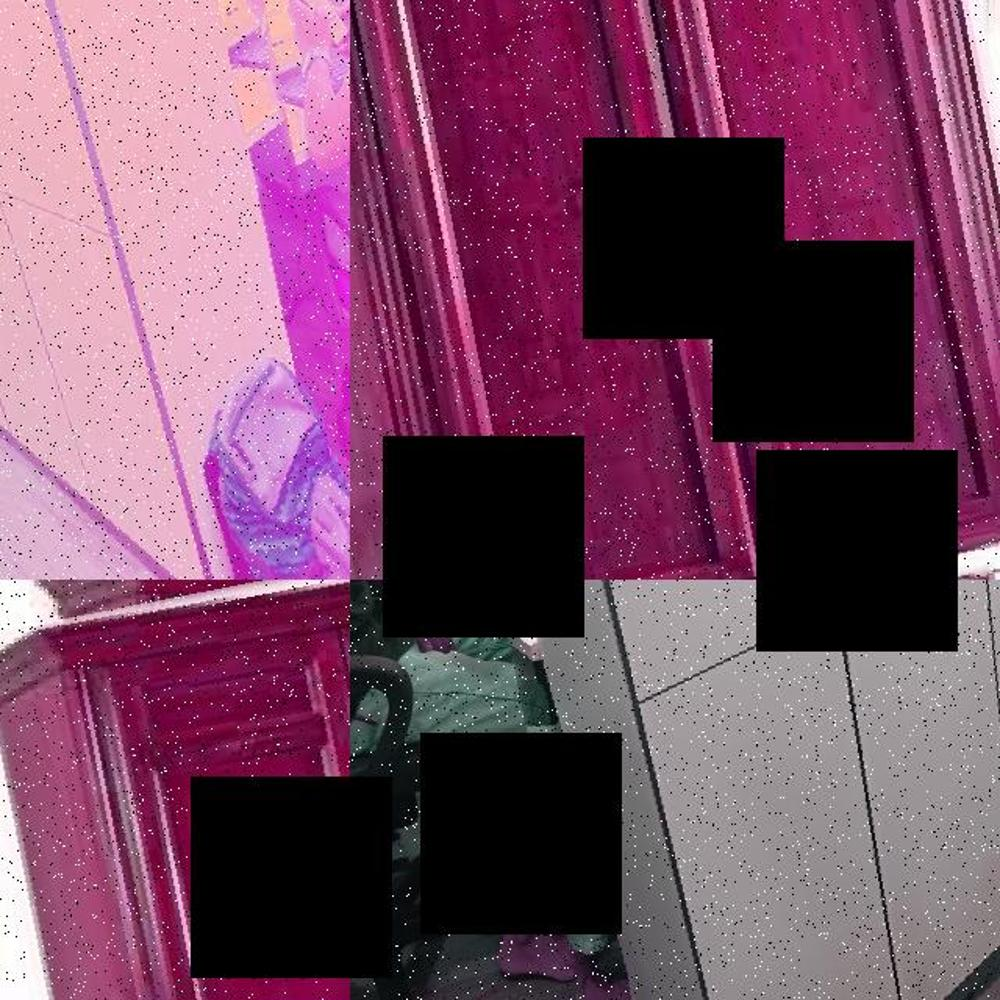cabinet: (350, 0, 1000, 580), (523, 580, 1000, 1000), (0, 0, 345, 580), (0, 580, 350, 1000)
